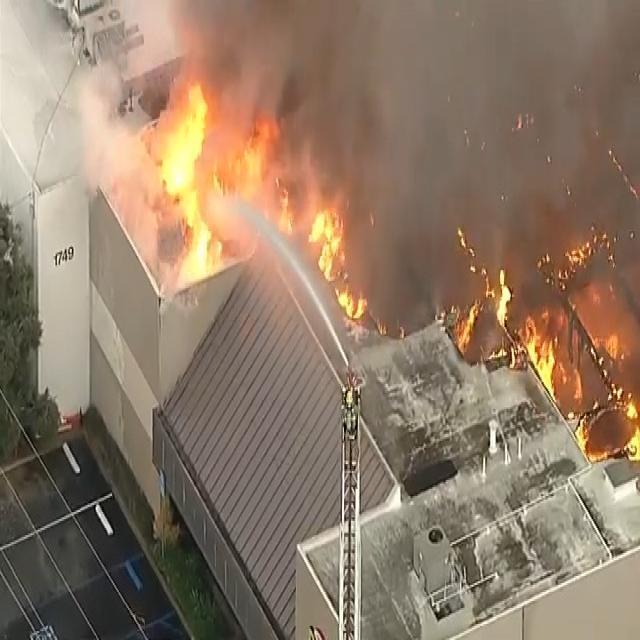Fire: (476, 223, 640, 438), (258, 118, 361, 278), (162, 87, 230, 267)
Smoke: (181, 0, 624, 309)
